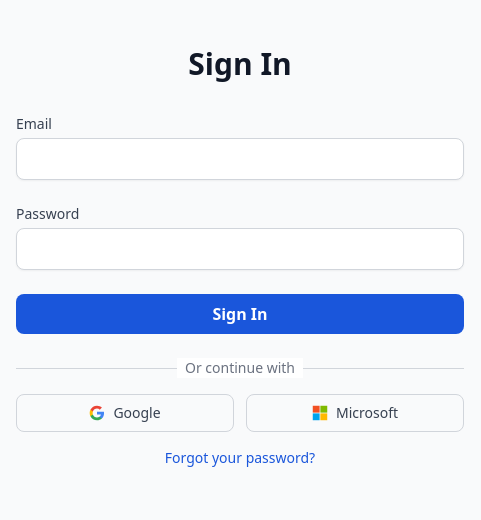
Test: Login Page › shows error on failed login
This screenshot has width=481, height=520.
Type "bad@example.com" into the field labelled "Email" at (240, 159), box [16,138,464,180]
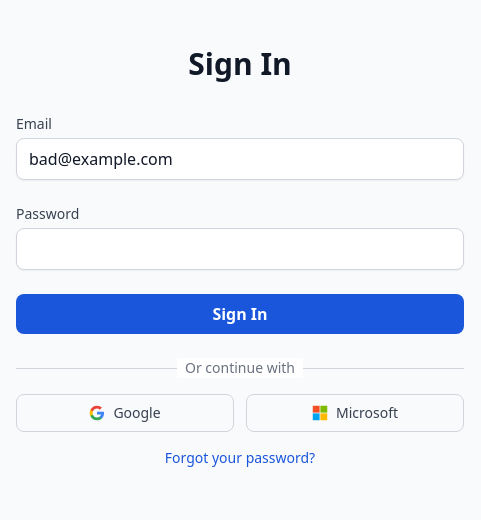
Type "wrong" into the password field labelled "Password" at (240, 249), box [16,228,464,270]
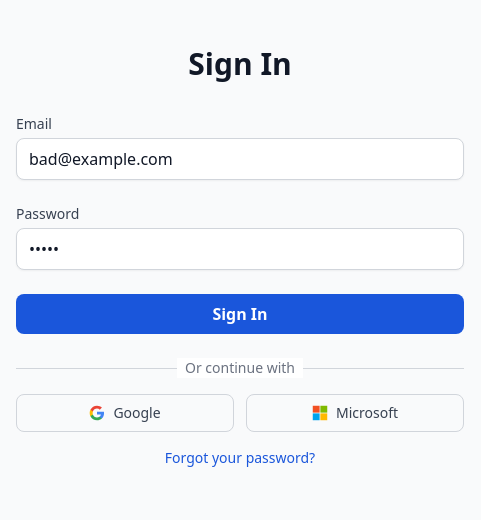
Click the button "Sign In" at (240, 314), box [16,294,464,334]
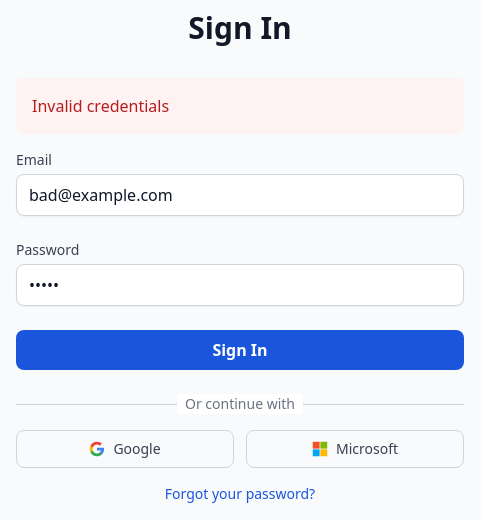
Check: the text "Invalid credentials" is shown, box [16,78,464,134]
